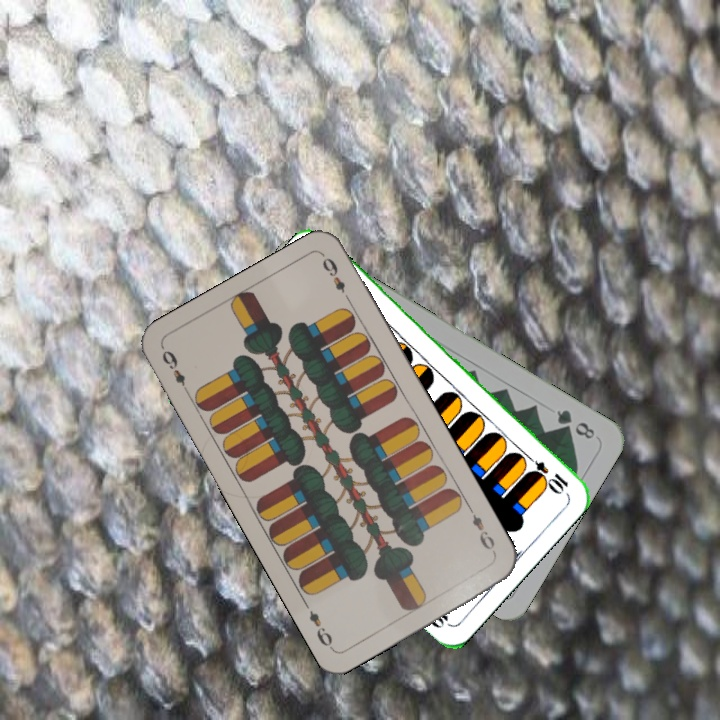E10: (520, 449, 571, 495)
E9: (157, 346, 193, 399), (465, 504, 499, 559)
G8: (552, 405, 598, 442)
